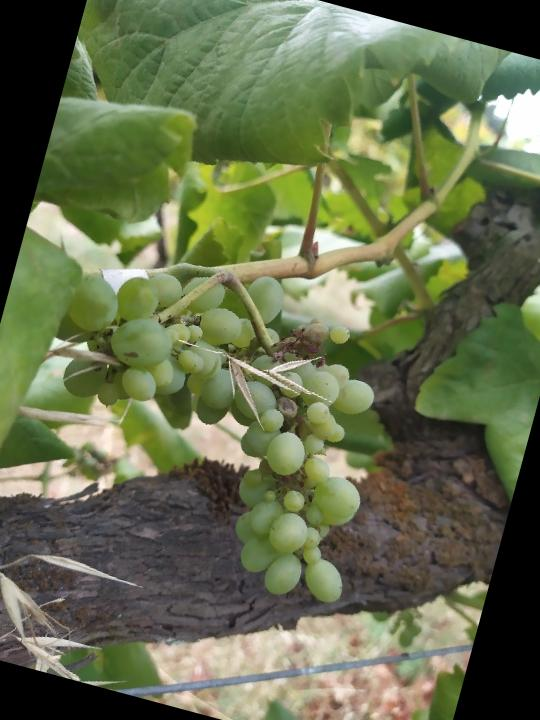grape: (19, 230, 427, 619)
